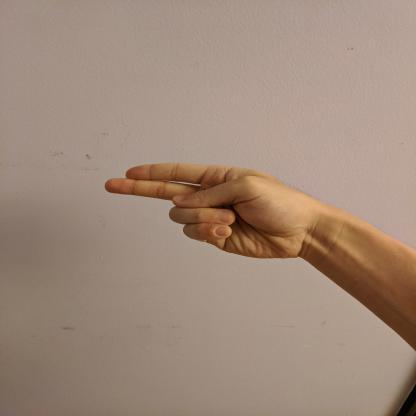H: (99, 158, 312, 266)
